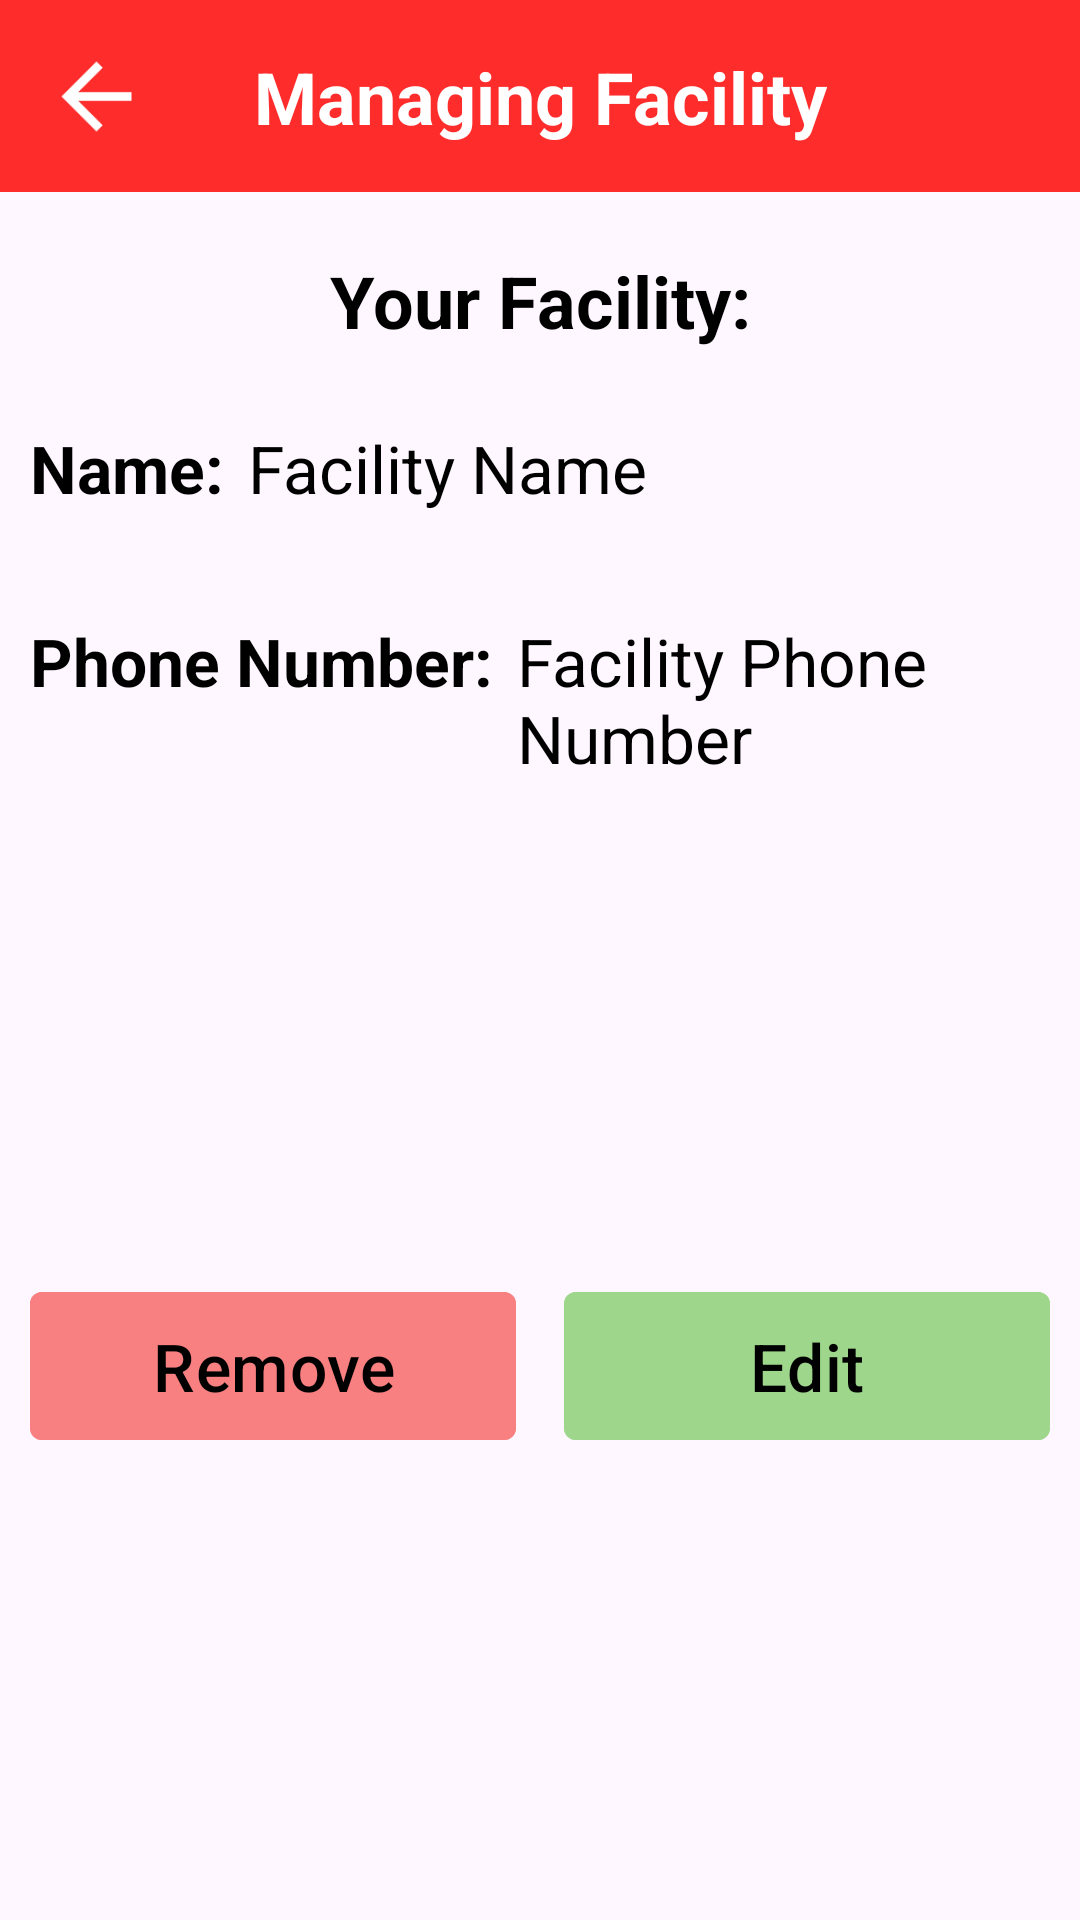

Screen size 1080×1920. Icon name, then its center in pixels as [x,y]:
Go Back: [96,96]
